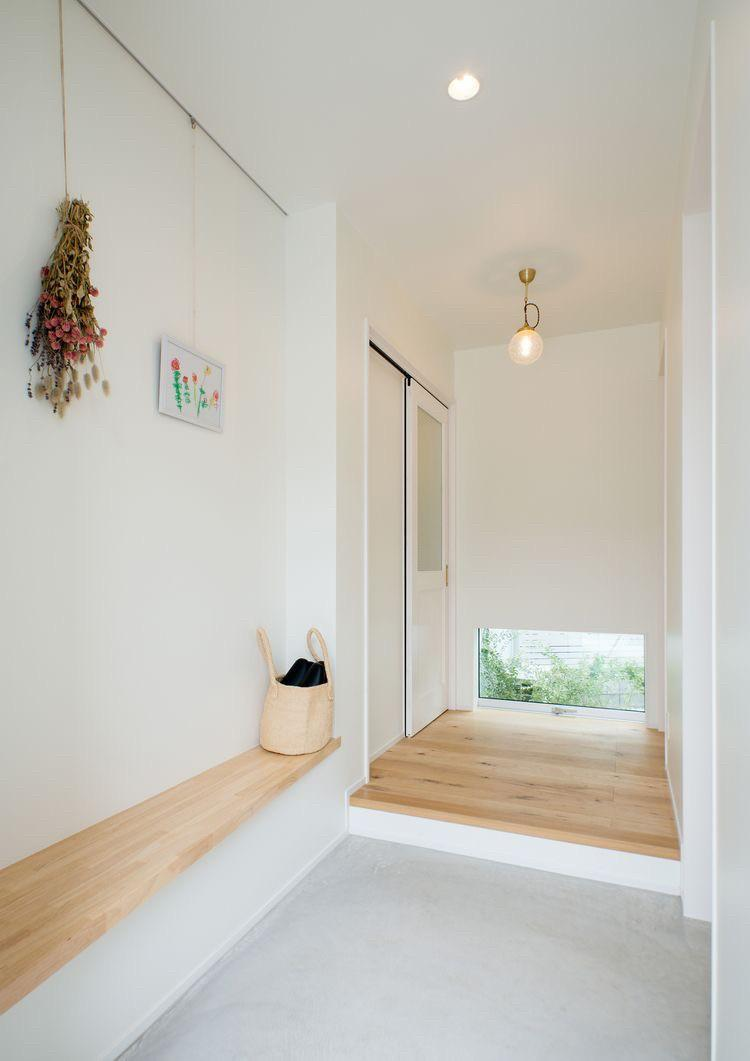floor: (125, 834, 712, 1060)
safe: (350, 706, 680, 849)
